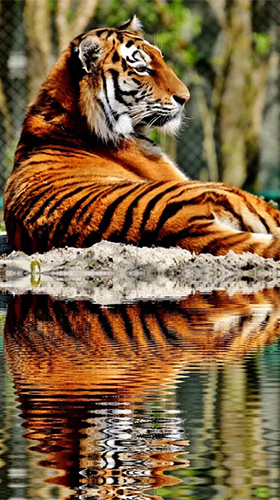Tigre: (5, 13, 280, 262)
